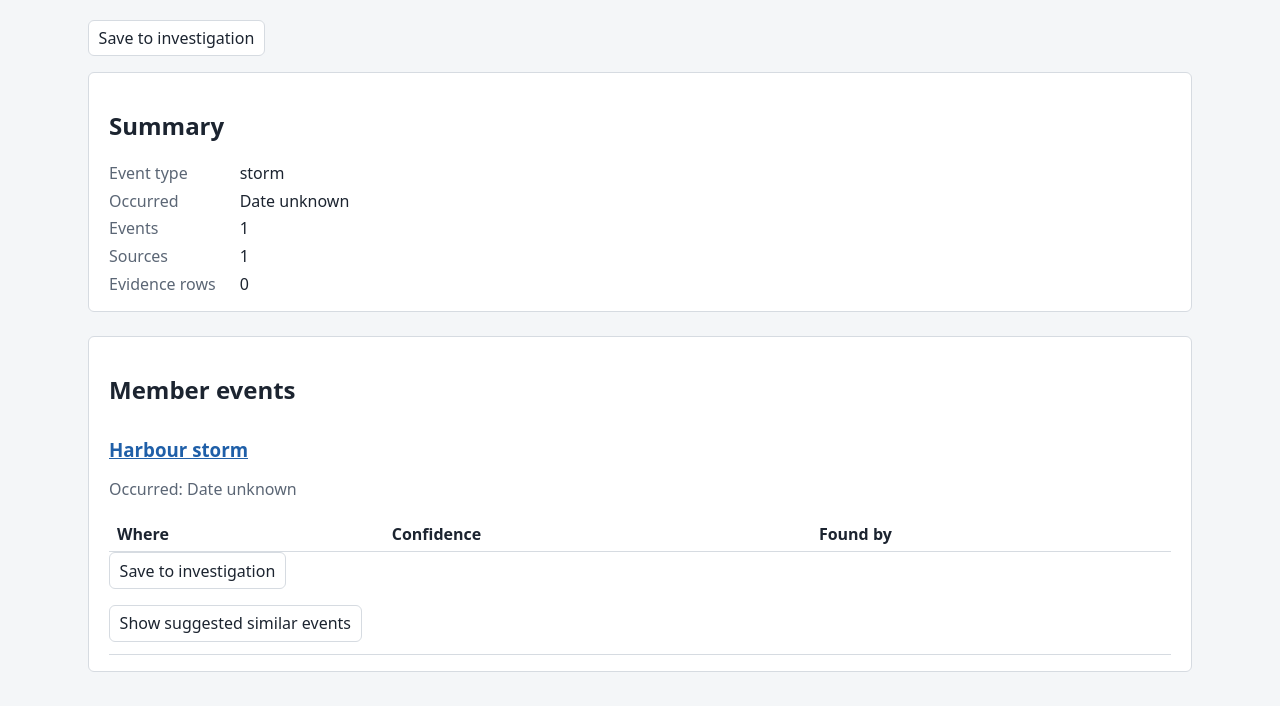
save to investigation › saves a member event of a cluster into the chosen investigation
The image size is (1280, 706).
(page scrolled)
Click the button "Save to investigation" below "Where" at (197, 571), box [109,552,286,589]
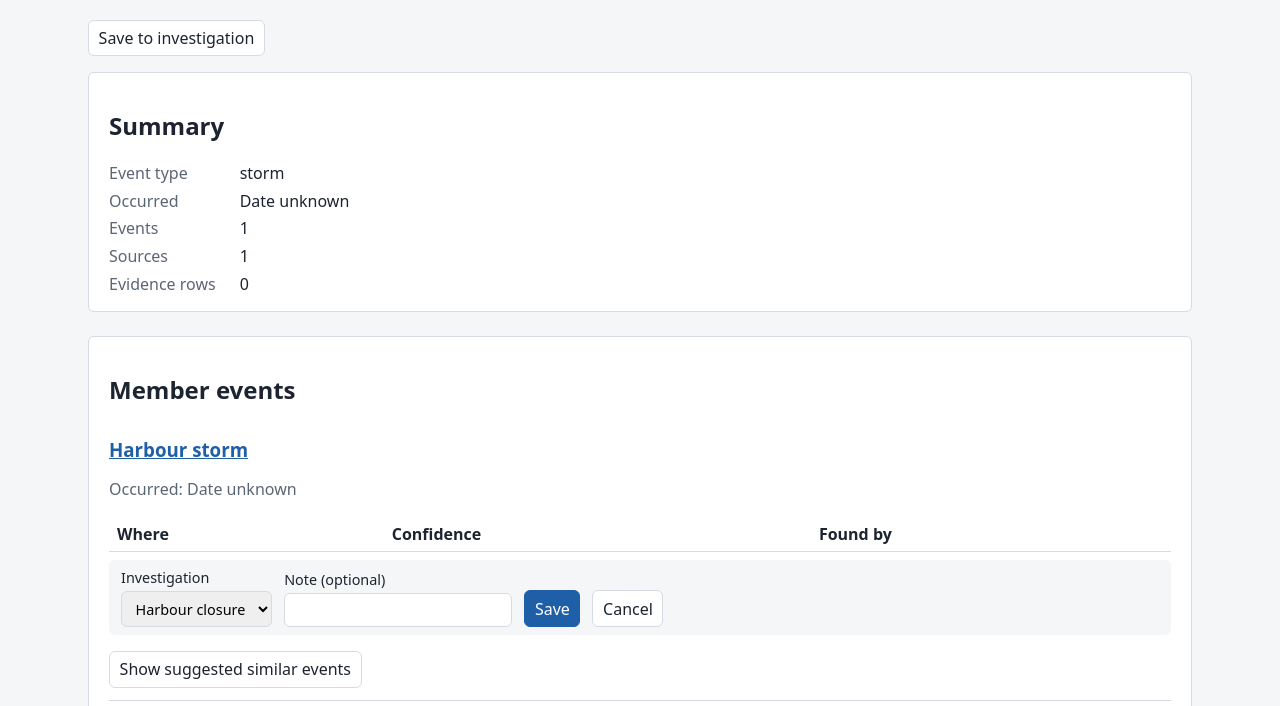
Select "Fuel prices" in the dropdown labelled "Investigation" at (197, 609), box [121,591,272,627]
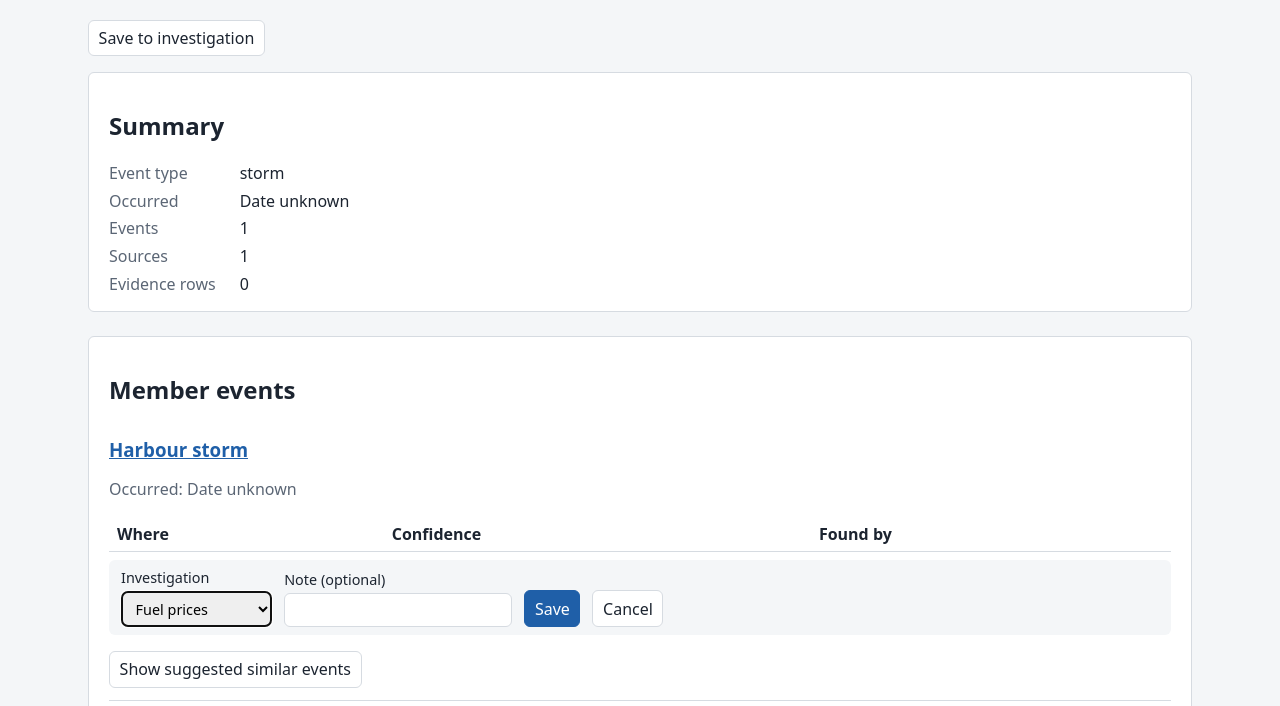
Click the button "Save" at (552, 609), box [524,590,580,627]
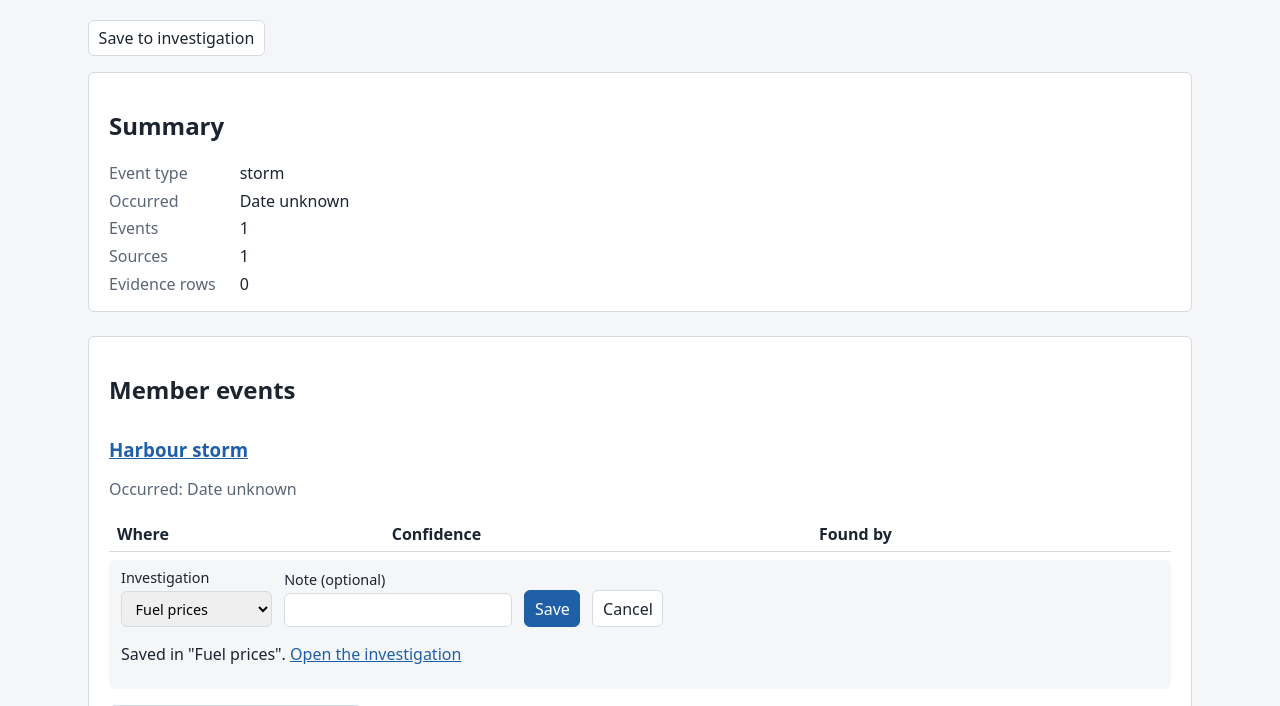
expect the message "Saved in \"Fuel prices\". Open the investigation" is shown: met, box [121,643,461,665]
